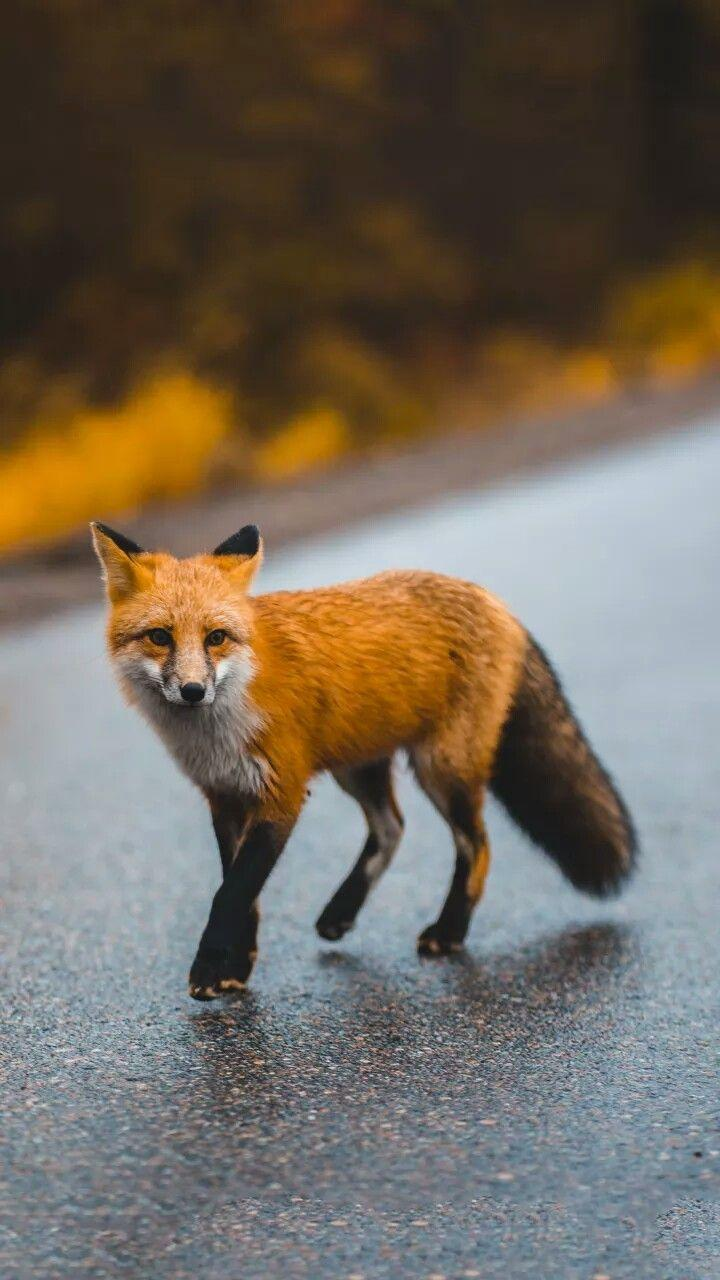fox: (76, 506, 668, 1016)
